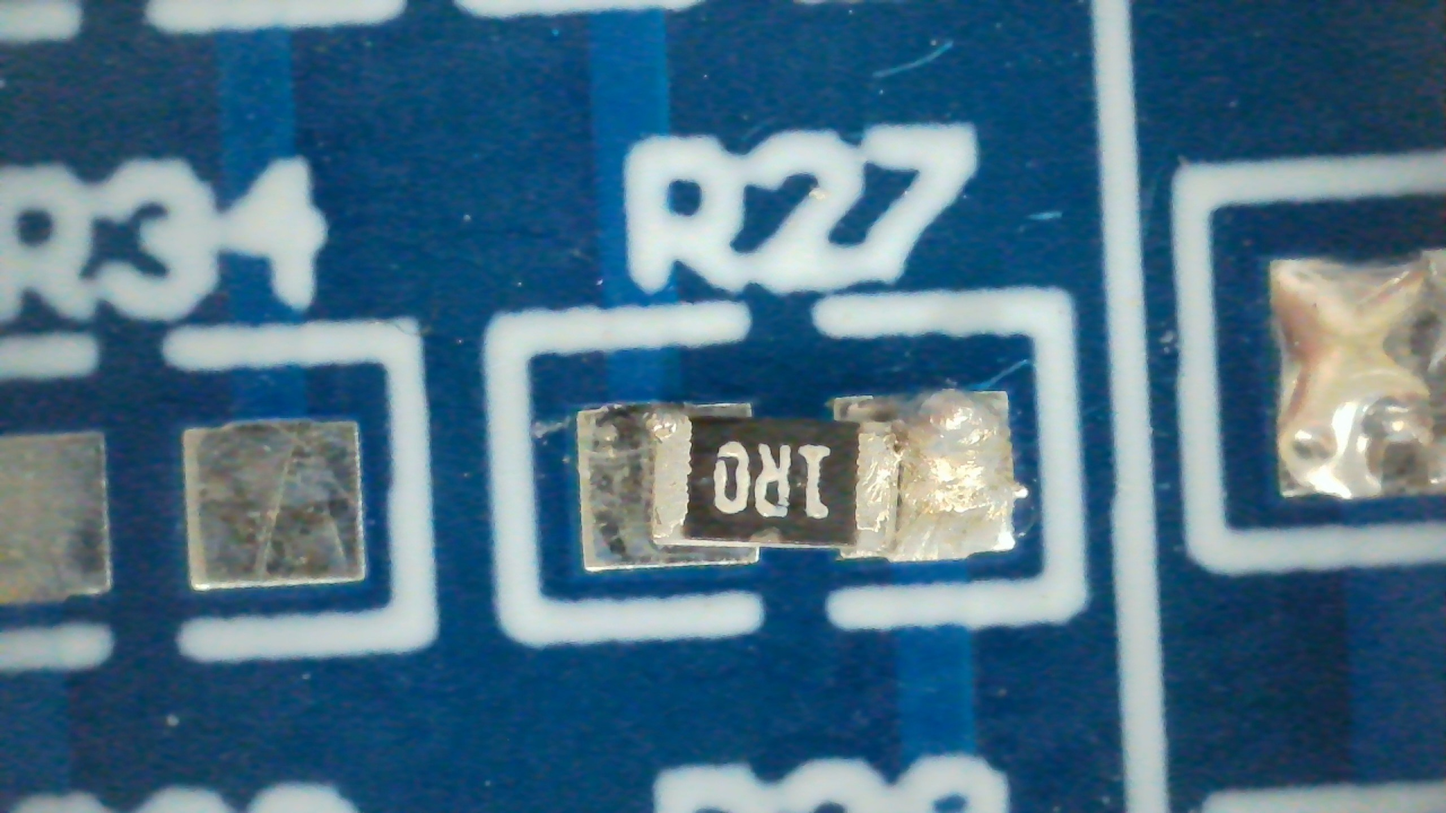NG: (577, 390, 1027, 571)
